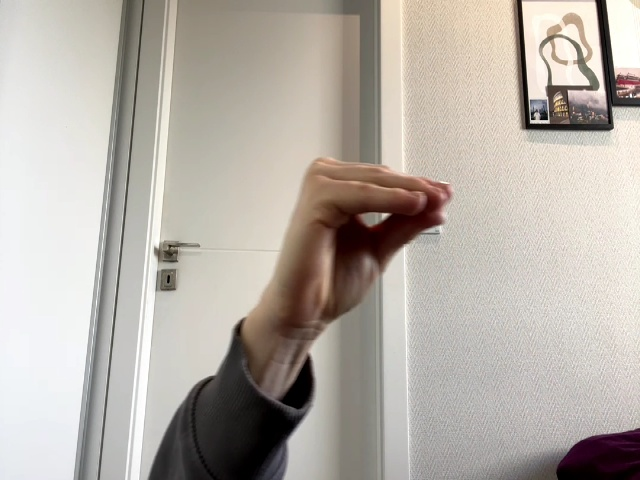E: (266, 158, 453, 322)
